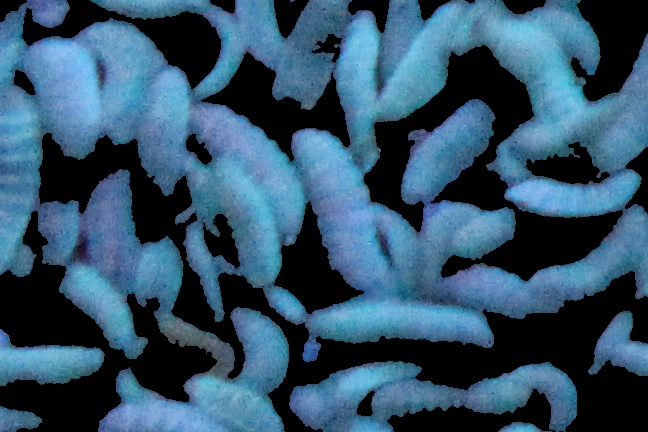larvae: (192, 104, 304, 244), (289, 128, 385, 282), (528, 207, 647, 300), (378, 1, 467, 117), (310, 294, 494, 349), (80, 22, 160, 144), (21, 37, 98, 157), (403, 101, 491, 202), (271, 1, 354, 106), (485, 16, 578, 109), (211, 159, 280, 284), (336, 12, 383, 170), (1, 85, 39, 275), (81, 164, 140, 283), (59, 265, 141, 350), (512, 91, 625, 151), (140, 65, 190, 190), (506, 170, 641, 216), (186, 372, 288, 430), (187, 1, 245, 99), (419, 202, 485, 279), (230, 307, 290, 391), (529, 5, 600, 72), (520, 360, 585, 430), (449, 263, 534, 316), (368, 202, 419, 284), (1, 343, 107, 382), (367, 378, 465, 419), (92, 402, 225, 432), (235, 1, 288, 70), (452, 207, 516, 259), (292, 383, 358, 432), (330, 360, 421, 395), (589, 310, 635, 377), (381, 1, 422, 76), (151, 230, 185, 312), (181, 156, 220, 224), (467, 376, 535, 413), (116, 371, 187, 405), (130, 242, 163, 306), (258, 281, 305, 323)
